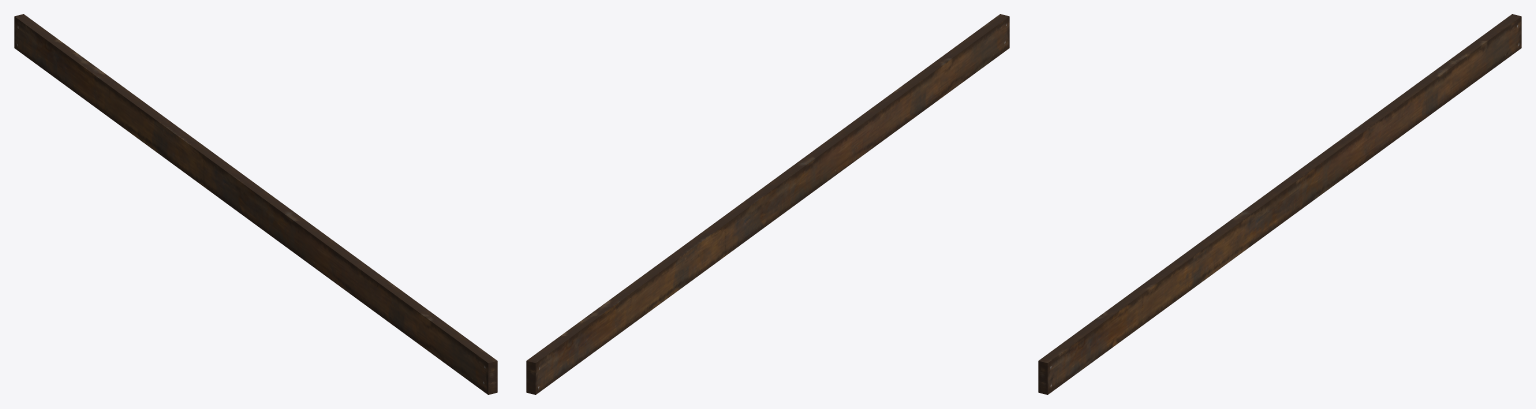
Rendered from wood_beam.glb.
3 views of the same model, side by side, from view 1: azimuth 30°, elevation 25°; view 2: azimuth 150°, elevation 25°; view 3: azimuth 330°, elevation 25° (orthographic).
Parts seen in each view (by area): view 1: SN_ceiling_wood_beam; view 2: SN_ceiling_wood_beam; view 3: SN_ceiling_wood_beam.
Boxes of the visible parts, x1=… form: SN_ceiling_wood_beam: x1=14, y1=14, x2=497, y2=394; SN_ceiling_wood_beam: x1=526, y1=14, x2=1009, y2=394; SN_ceiling_wood_beam: x1=1038, y1=14, x2=1521, y2=394.
Bounding box in the file's own units: 5.41 × 17.51 × 472.
Materials: 1 (1 with a texture image).
